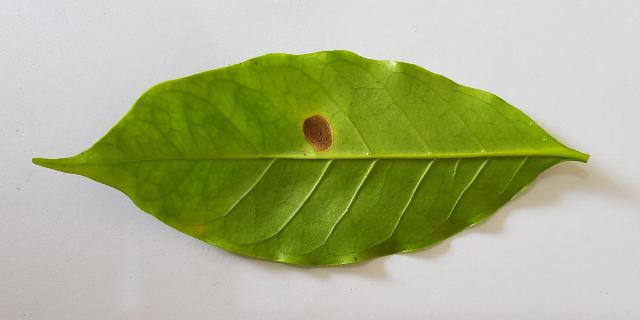cercospora: (302, 115, 332, 151)
